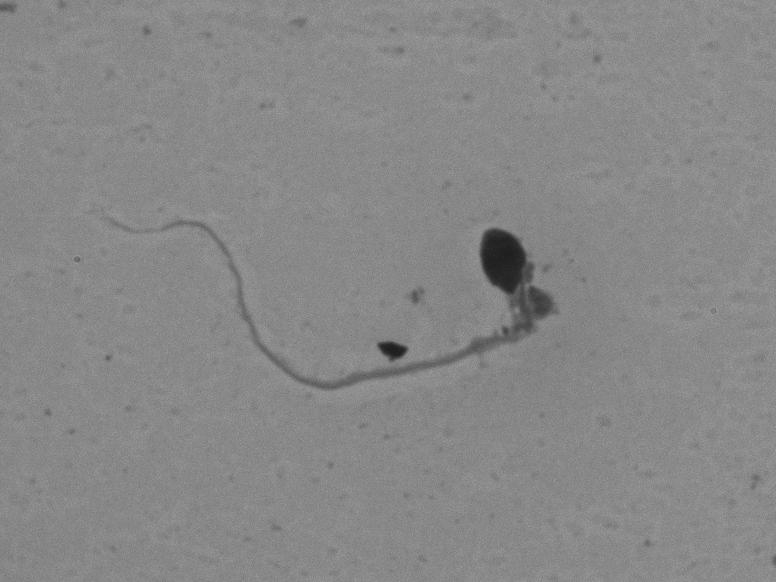Abnormal: (93, 160, 574, 410)
